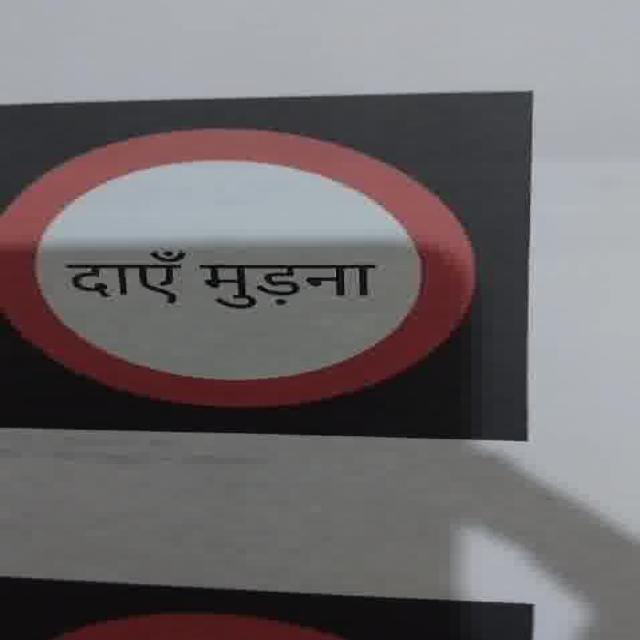hindiright: (47, 239, 410, 311), (43, 241, 196, 315)
